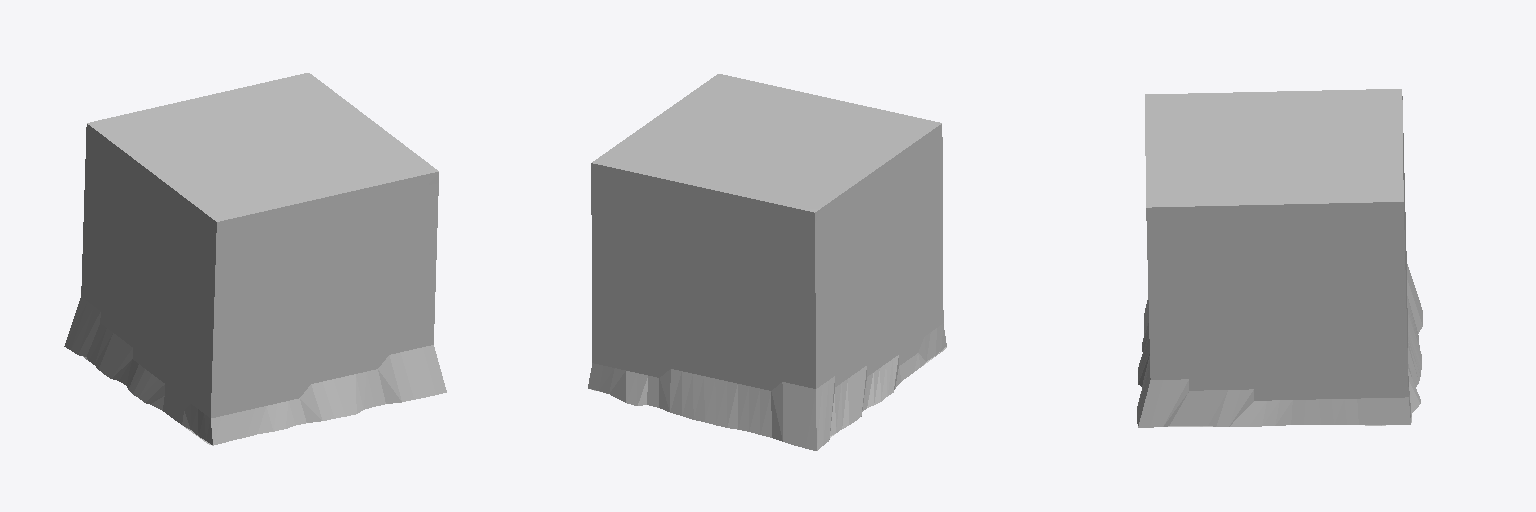
File: mod0071.obj
3 views of the same model, side by side, from view 1: azimuth 30°, elevation 25°; view 2: azimuth 150°, elevation 25°; view 3: azimuth 270°, elevation 25° (orthographic).
Parts seen in each view (by area): view 1: Box001; view 2: Box001; view 3: Box001.
Part boxes in pixels (bbox=[...]): Box001: bbox=[64, 73, 446, 445]; Box001: bbox=[588, 74, 946, 450]; Box001: bbox=[1137, 89, 1422, 427].
Bounding box in the file's own units: 0.5799 × 0.5272 × 0.5979.